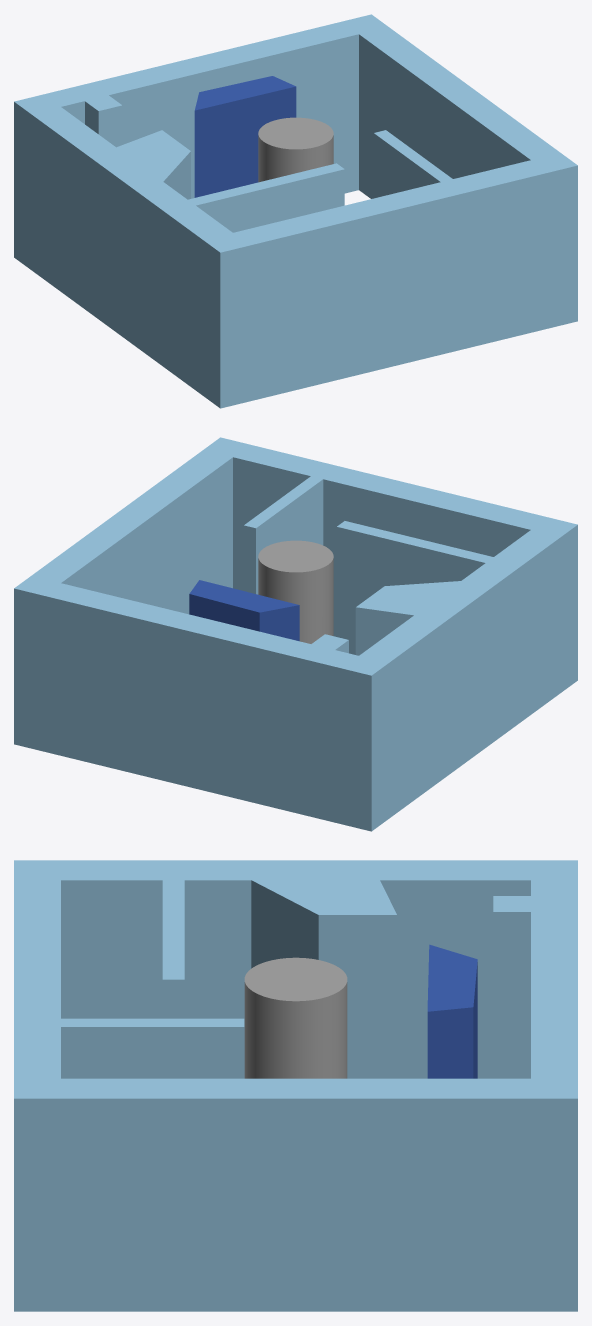
3 renders of one model, top to bottom at view 1: azimuth 30°, elevation 25°; view 2: azimuth 150°, elevation 25°; view 3: azimuth 270°, elevation 25°, orthographic. The views are drawn at different scales.
Visible parts, largest first — view 1: 66958ee7b188f66773c20f26 (×3); view 2: 66958ee7b188f66773c20f26 (×3); view 3: 66958ee7b188f66773c20f26 (×3).
Part boxes in pixels (bbox=[...]): 66958ee7b188f66773c20f26 (×3): bbox=[14, 14, 577, 408]; 66958ee7b188f66773c20f26 (×3): bbox=[14, 437, 577, 831]; 66958ee7b188f66773c20f26 (×3): bbox=[14, 860, 577, 1311].
Bounding box in the file's own units: 12 × 12 × 5.
